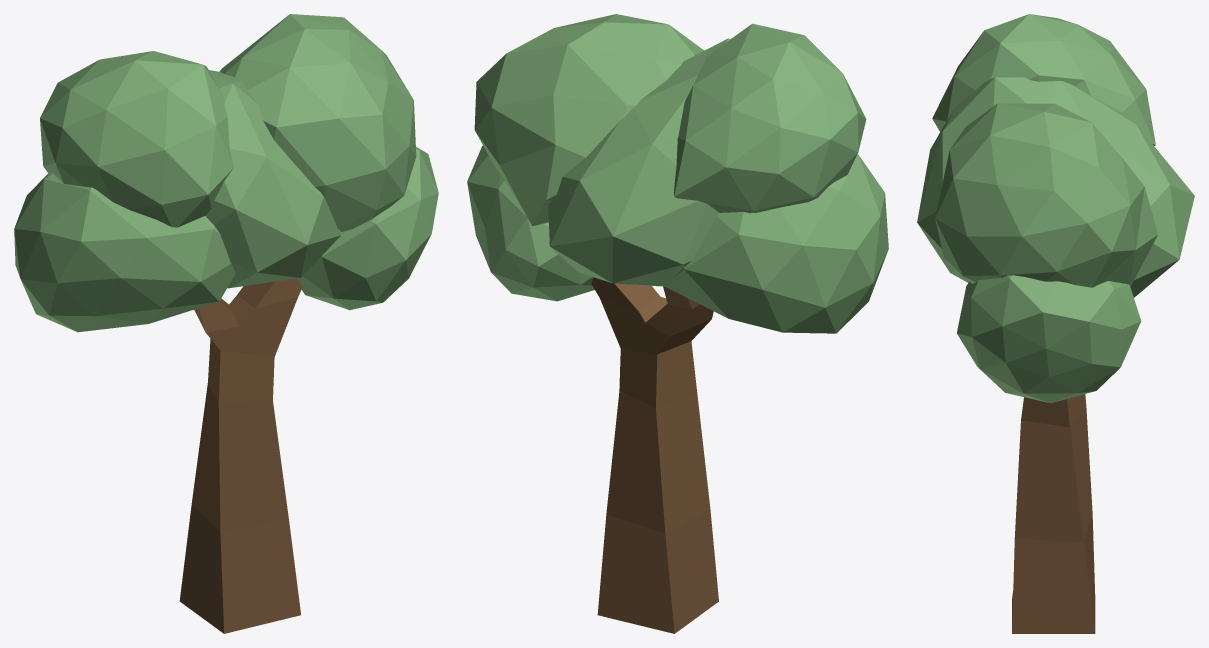
The model's file is f_long_oak_tree1.fbx.
3 views of the same model, side by side, from view 1: azimuth 30°, elevation 25°; view 2: azimuth 150°, elevation 25°; view 3: azimuth 270°, elevation 25° (orthographic). The views are drawn at different scales.
Parts seen in each view (by area): view 1: OakTree1; view 2: OakTree1; view 3: OakTree1.
Part boxes in pixels (x1,y1,x2,y2): OakTree1: [14, 14, 438, 633]; OakTree1: [467, 14, 888, 633]; OakTree1: [917, 14, 1194, 633].
Bounding box in the file's own units: 976 × 1368 × 628.
